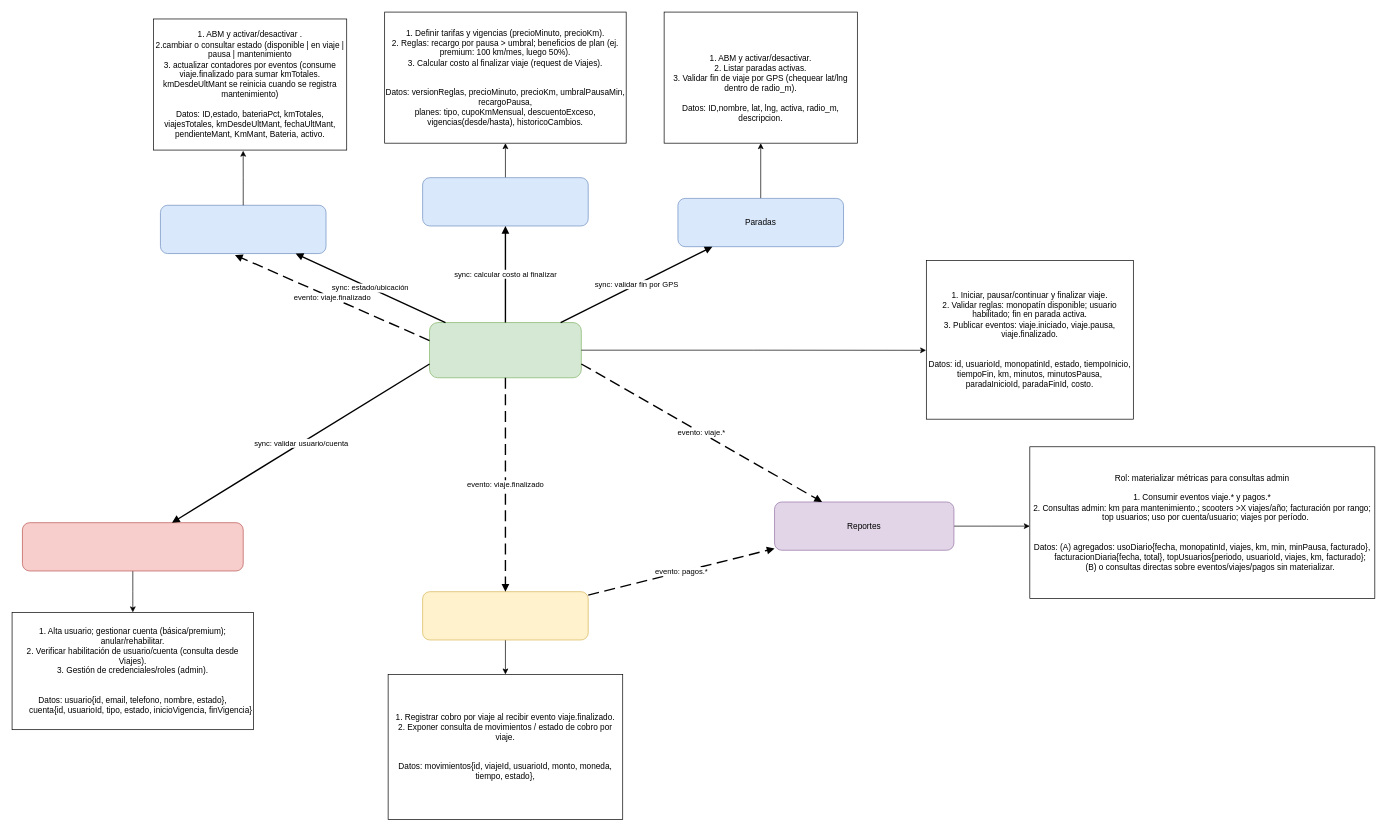
The diagram is 1387 pixels wide and 831 high, and some of its shapes have lost their labels. Here are the shapes that lost their labels. From the top down, the centre of each, then its label:
the point at 505,201: Tarifas
the point at 243,229: Monopatines
the point at 505,350: Viajes
the point at 132,546: Cuentas
the point at 505,615: Pagos
